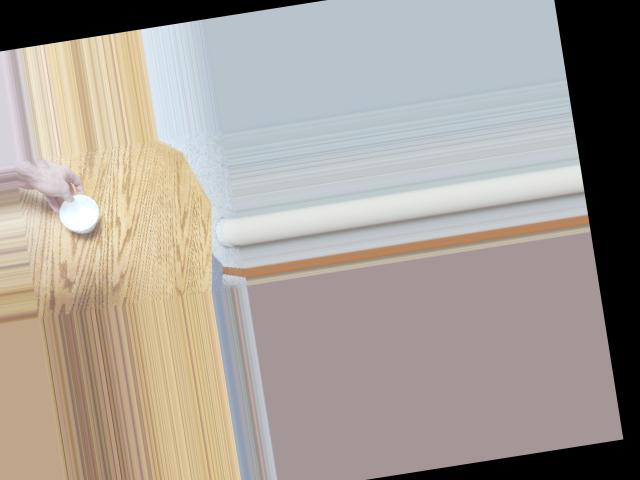cotage: (53, 183, 110, 237)
